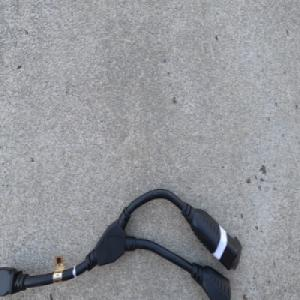Wire: (0, 187, 242, 300)
